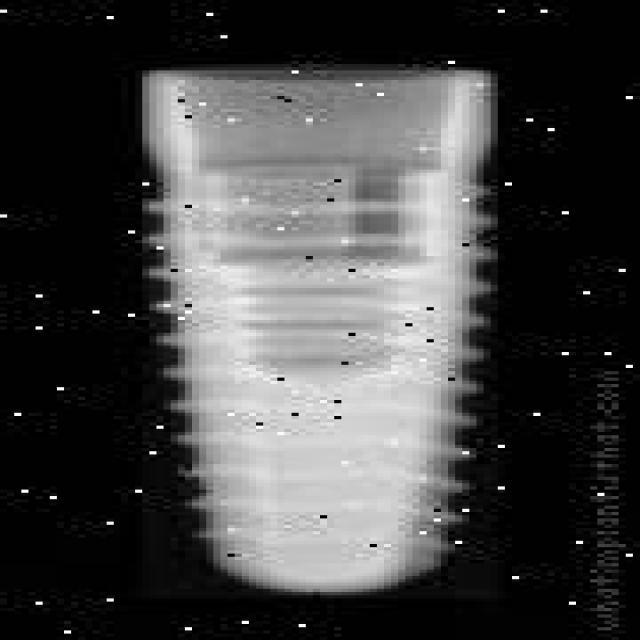Root canal obturation: (142, 69, 513, 603)
